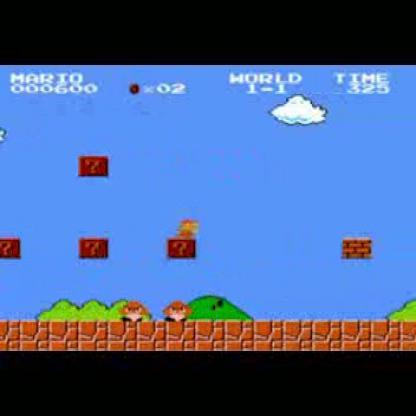Goomba: (158, 296, 190, 321), (120, 298, 149, 322)
